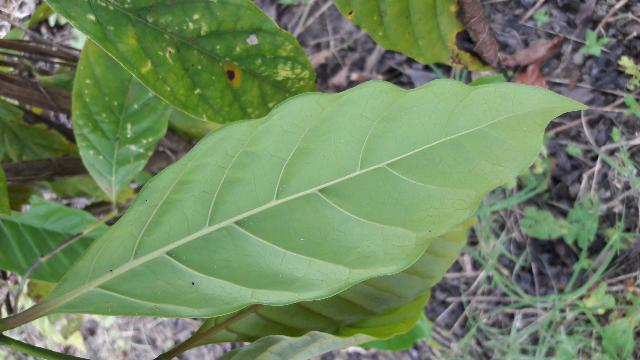healthy: (58, 85, 575, 319)
